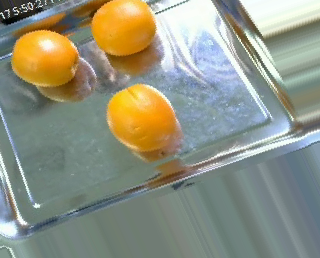Orange: (106, 82, 177, 150), (11, 28, 79, 87), (89, 1, 156, 55)
